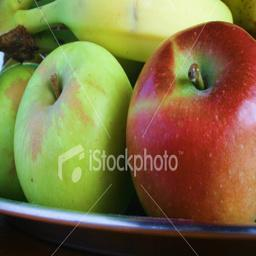apple: (123, 22, 255, 223), (10, 42, 134, 212)
